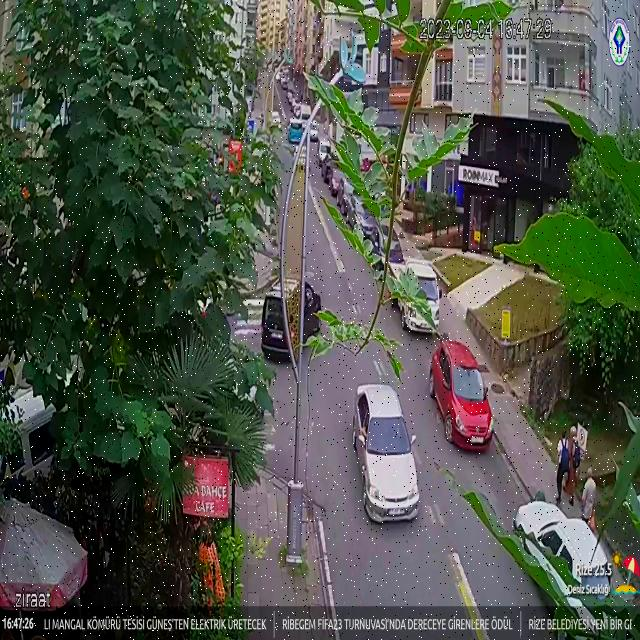car: (354, 378, 424, 530), (429, 335, 493, 455)
